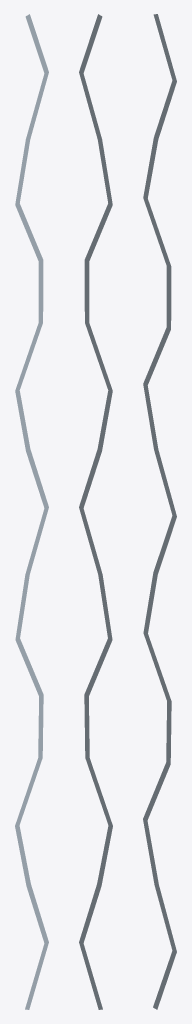
File: Keqing_StarwardSword_Full_OpeningFineArc6.fbx
3 views of the same model, side by side, from view 1: azimuth 30°, elevation 25°; view 2: azimuth 150°, elevation 25°; view 3: azimuth 330°, elevation 25° (orthographic).
Parts seen in each view (by area): view 1: PART_OpeningFineArc6; view 2: PART_OpeningFineArc6; view 3: PART_OpeningFineArc6.
Part boxes in pixels (x1=…): PART_OpeningFineArc6: x1=15, y1=14, x2=48, y2=1009; PART_OpeningFineArc6: x1=79, y1=14, x2=112, y2=1009; PART_OpeningFineArc6: x1=143, y1=14, x2=176, y2=1009.
Size of the model in its own units: 17.75 by 495 by 8.07e-05.
